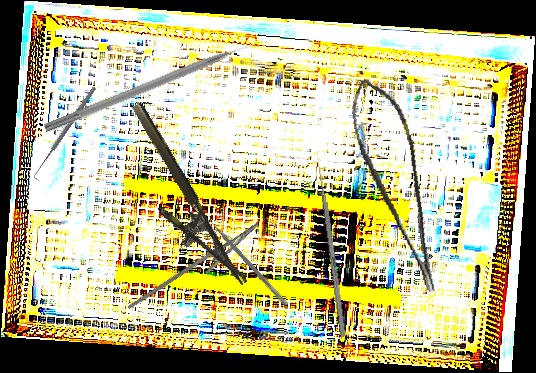Hook Surgical: (30, 85, 101, 182)
Micro Scissor: (343, 70, 443, 302)
Needle Holder: (107, 100, 248, 303), (126, 207, 267, 334)
Pusher: (43, 35, 266, 136), (314, 152, 347, 338)
Spatula Surgical: (204, 213, 293, 307)
